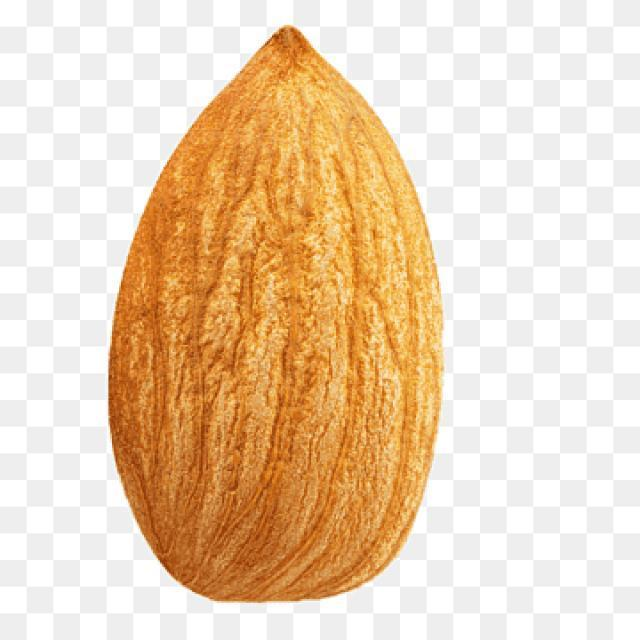almond: (105, 22, 445, 607)
